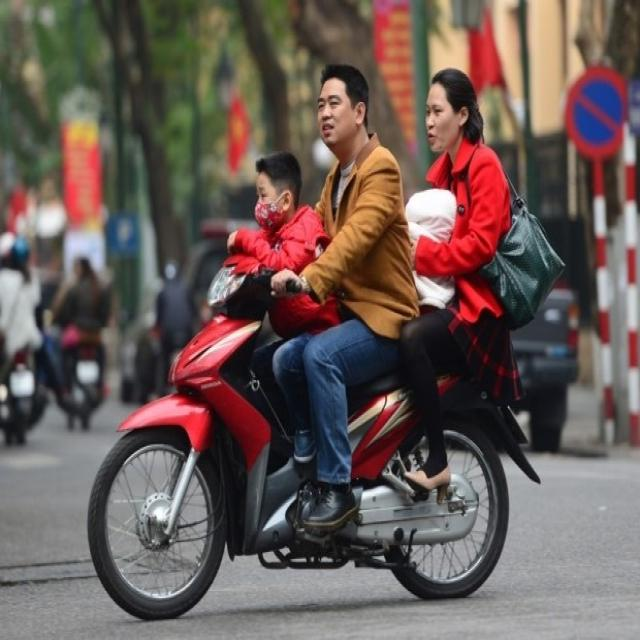no_helmet: (418, 59, 487, 161), (309, 56, 376, 161), (243, 138, 306, 240)
